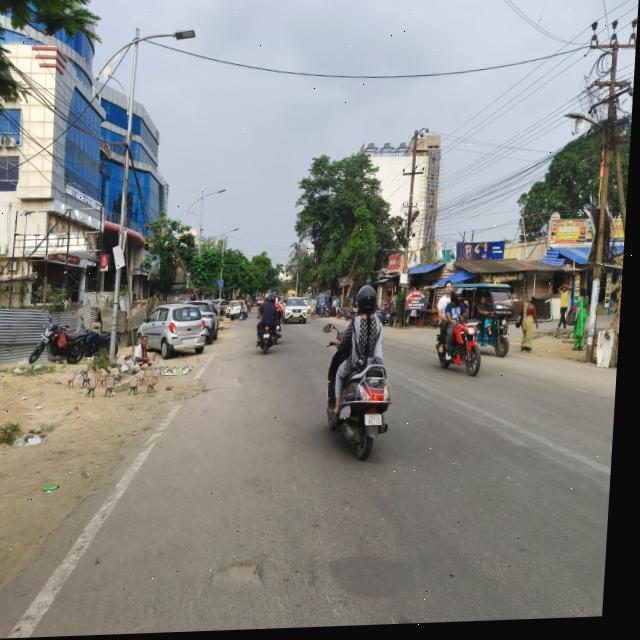bike: (327, 325, 398, 469), (434, 308, 495, 394), (34, 315, 93, 386), (82, 315, 127, 365), (255, 321, 286, 366), (341, 305, 355, 322), (350, 309, 361, 325), (243, 306, 251, 324), (309, 300, 316, 316)
car: (138, 305, 213, 360), (199, 295, 227, 345), (285, 297, 311, 331), (234, 298, 252, 326)
